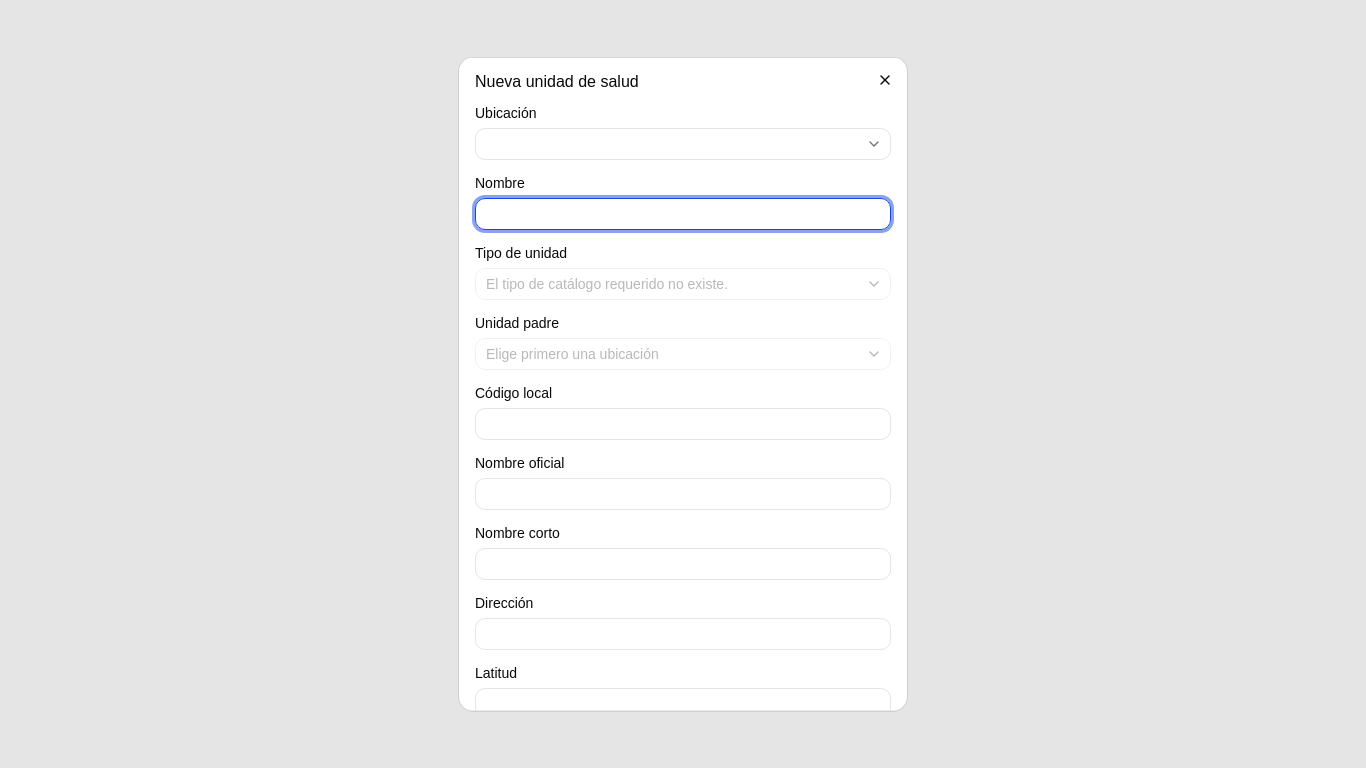
Test: HealthFacilityFormDialog — combo de unidad padre (SPEC FE06 §3.7) › elegir una ubicación recarga los candidatos a padre de esa ubicación
The width and height of the screenshot is (1366, 768).
Click the dropdown named "Nivel País".
click(874, 144)  # box top-left (475, 128), bottom-right (891, 160)
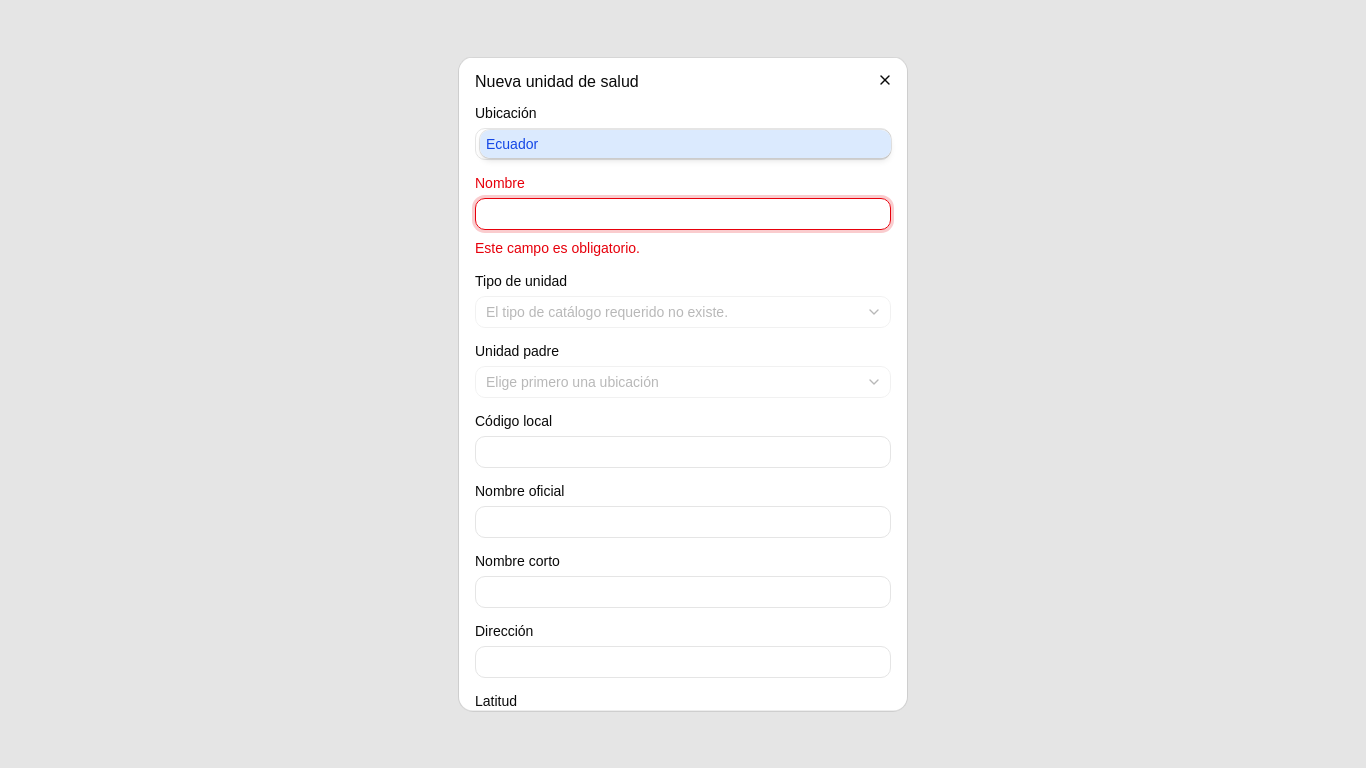
Click the option "Ecuador".
click(512, 144)  # box top-left (480, 130), bottom-right (891, 158)
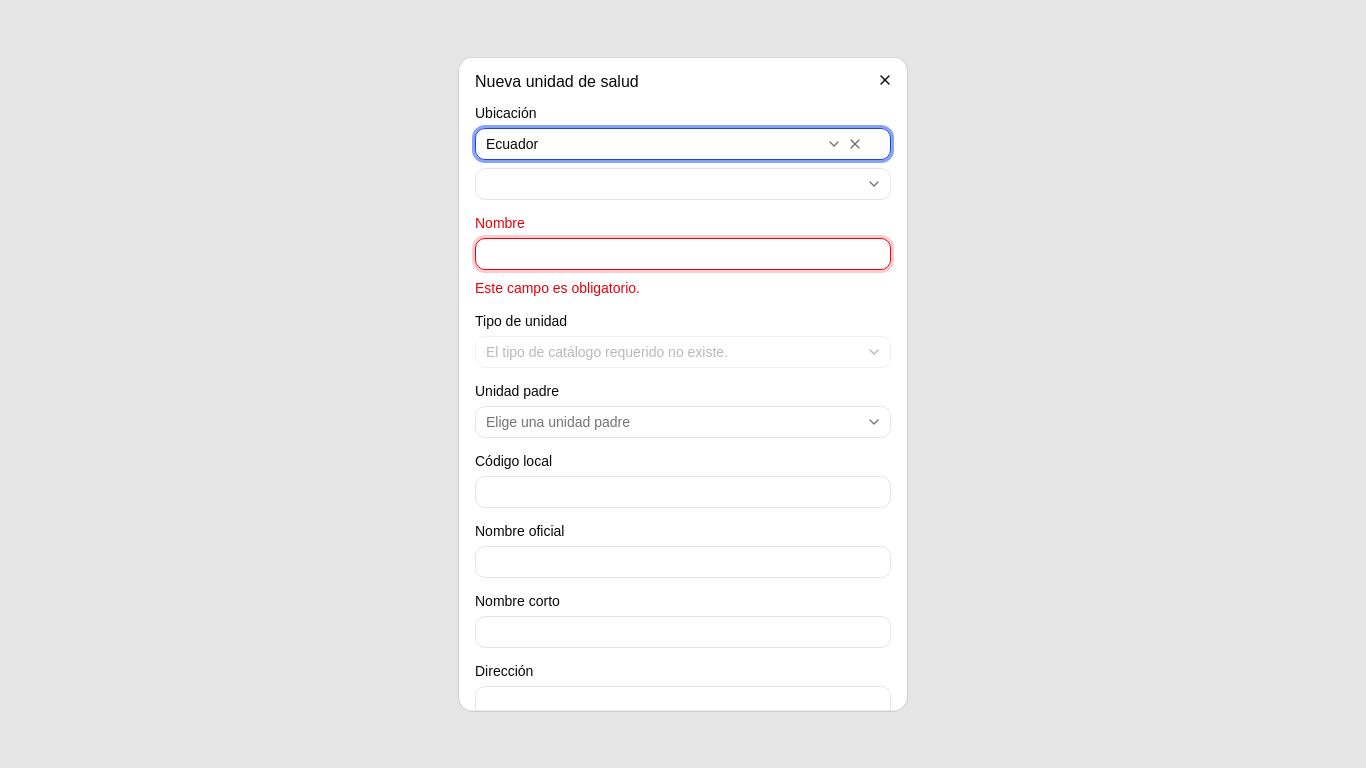
Result: the dropdown labelled "unidad padre" is enabled
Click the dropdown labelled "unidad padre".
click(558, 422)  # box top-left (475, 406), bottom-right (891, 438)
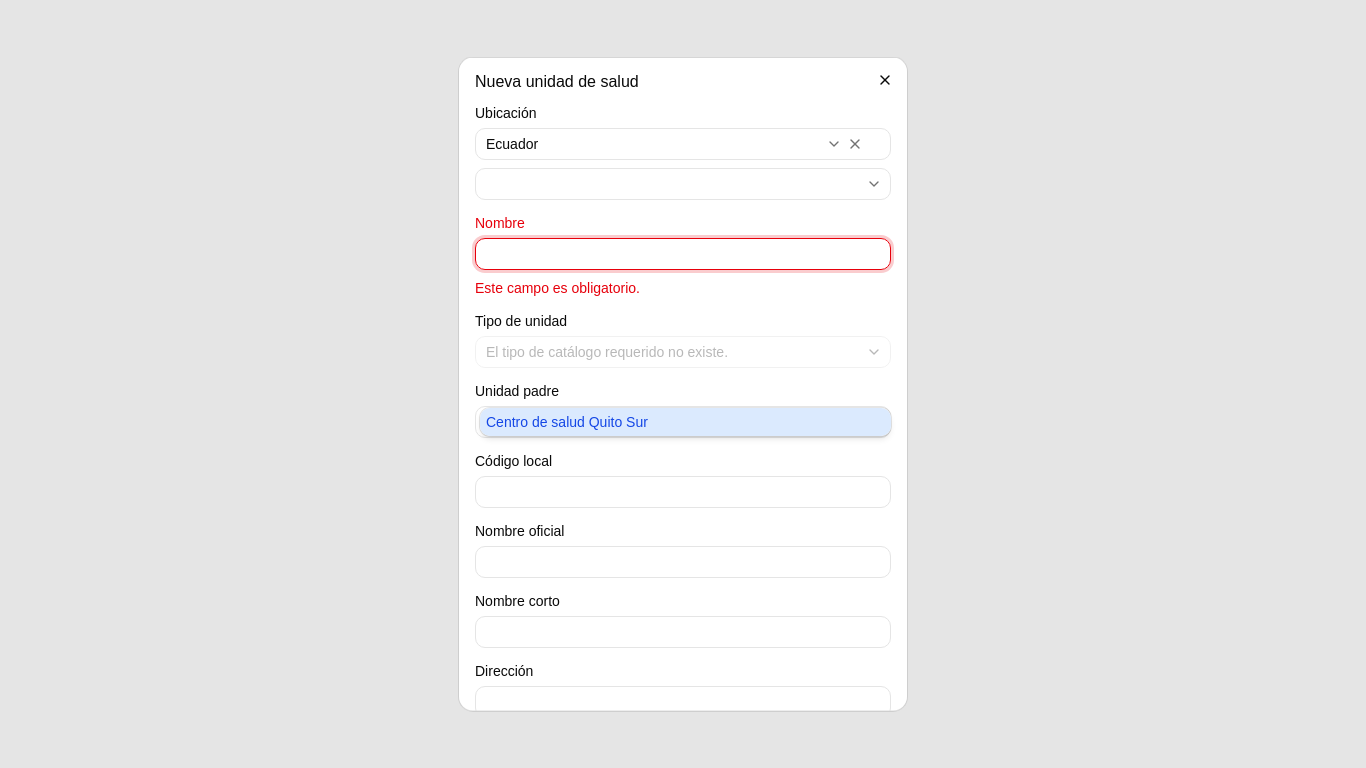
Result: the option "Centro de salud Quito Sur" is shown at top-left (480, 408), bottom-right (891, 436)
